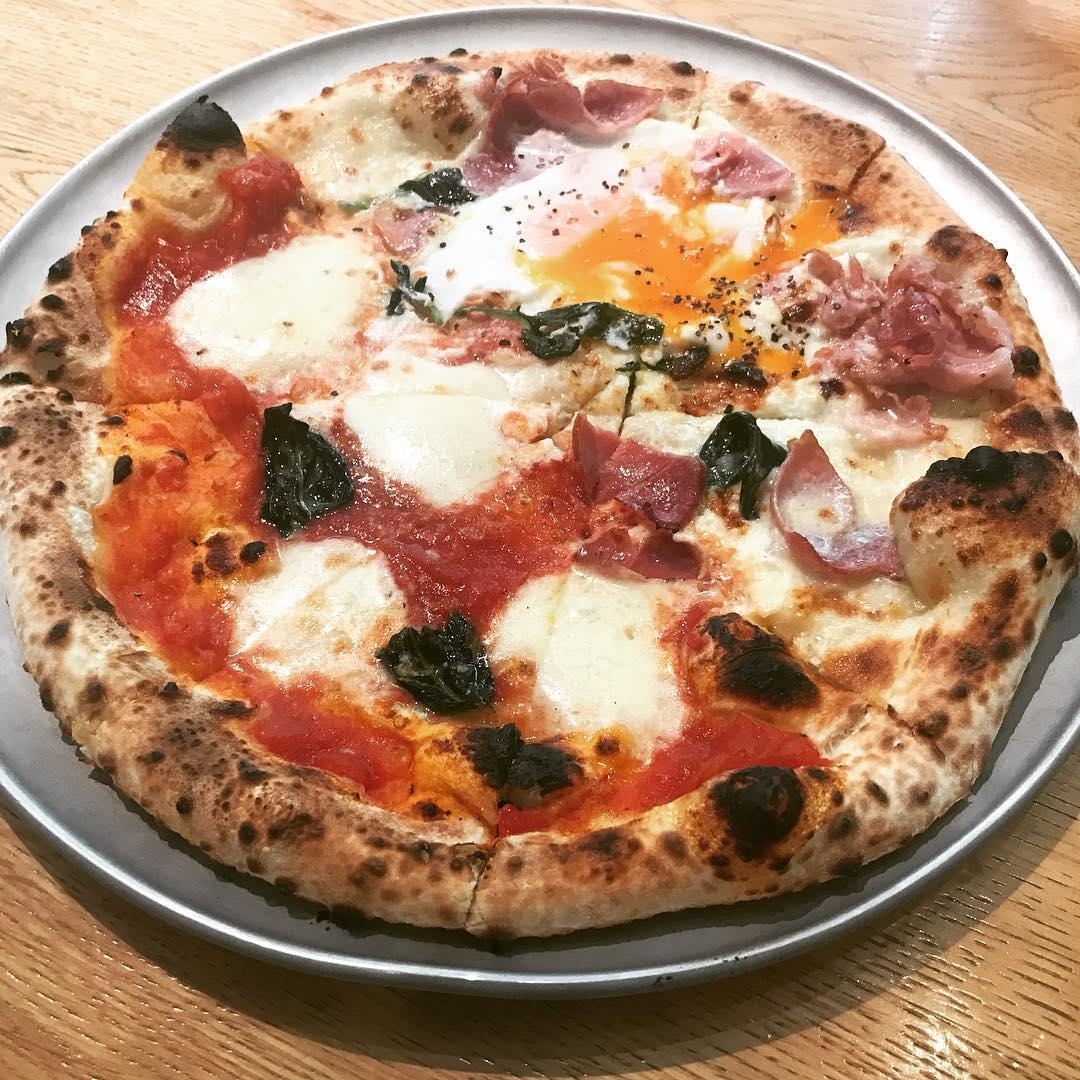Basil: (251, 405, 346, 532), (519, 291, 693, 357), (379, 619, 486, 708), (709, 401, 768, 502)
Cheese: (489, 573, 681, 733), (169, 235, 373, 382), (223, 529, 404, 689), (359, 355, 549, 492)
Ham: (787, 249, 1022, 388), (461, 65, 689, 172), (569, 409, 704, 546), (777, 427, 881, 588), (689, 125, 789, 205)
Pizza: (5, 49, 1080, 929)
